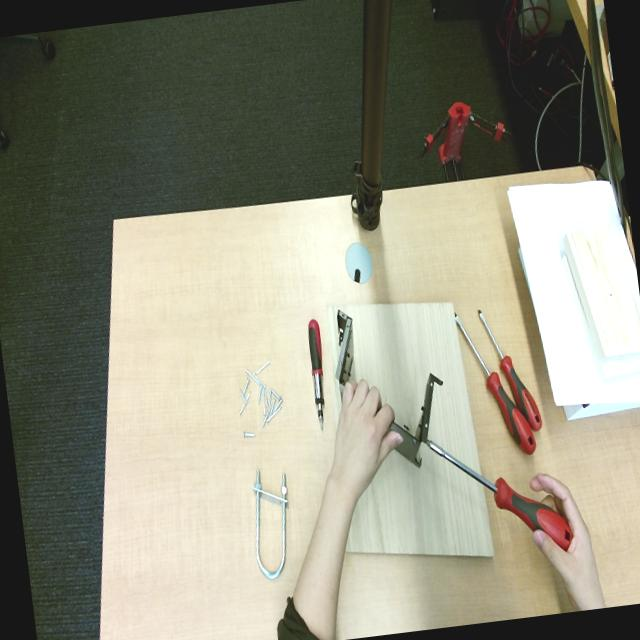screwdriver: (426, 439, 572, 550), (455, 315, 535, 454), (478, 310, 542, 430), (308, 319, 324, 427)
